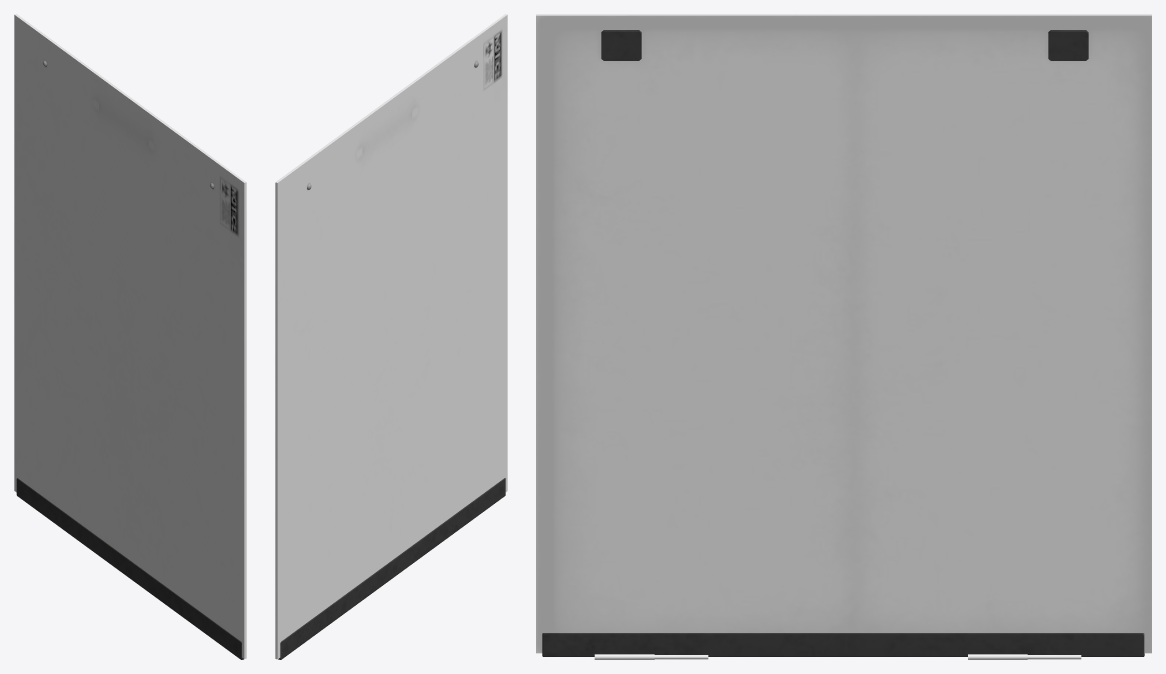
Rendered from SM_Incubator_door_NakedSingularity_glass_0_0.obj.
3 views of the same model, side by side, from view 1: azimuth 30°, elevation 25°; view 2: azimuth 150°, elevation 25°; view 3: azimuth 270°, elevation 25° (orthographic). The views are drawn at different scales.
Parts seen in each view (by area): view 1: SM_Incubator_door_NakedSingularity_glass_0_0; view 2: SM_Incubator_door_NakedSingularity_glass_0_0; view 3: SM_Incubator_door_NakedSingularity_glass_0_0.
Boxes of the visible parts, x1,y1,x2,y2 form: SM_Incubator_door_NakedSingularity_glass_0_0: (14, 14, 246, 659); SM_Incubator_door_NakedSingularity_glass_0_0: (275, 14, 507, 659); SM_Incubator_door_NakedSingularity_glass_0_0: (536, 14, 1151, 659).
Size of the model in its own units: 0.8555 by 48.43 by 42.03.
Materials: 2 (2 with a texture image).
